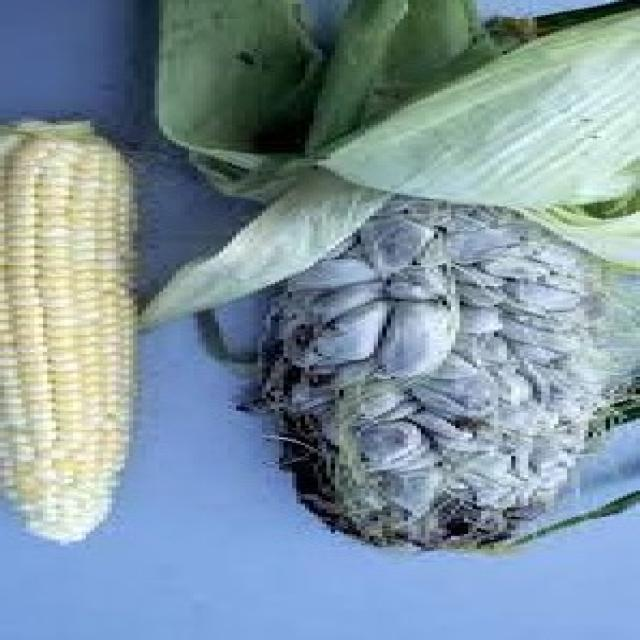Leaf_Scald: (172, 51, 637, 565)
